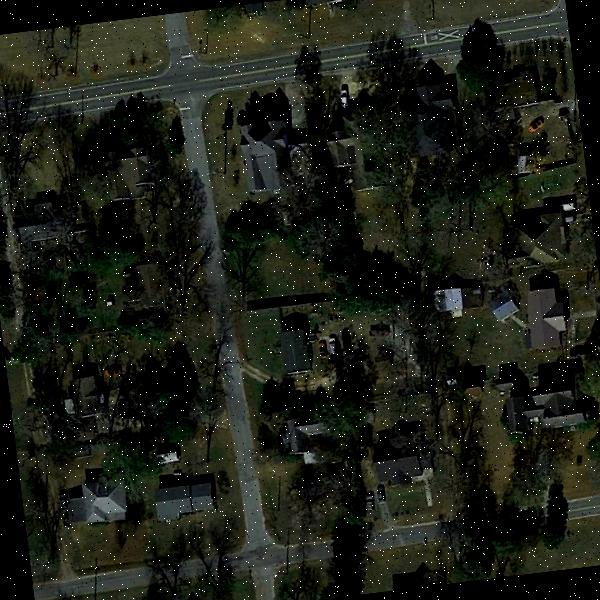Buildings: (504, 210, 570, 270), (505, 382, 577, 435), (404, 82, 452, 148), (70, 478, 125, 524), (373, 441, 422, 492), (66, 370, 108, 426), (238, 139, 278, 192), (528, 292, 562, 353), (152, 484, 208, 520), (111, 152, 151, 195), (21, 202, 70, 237), (280, 334, 308, 380)
